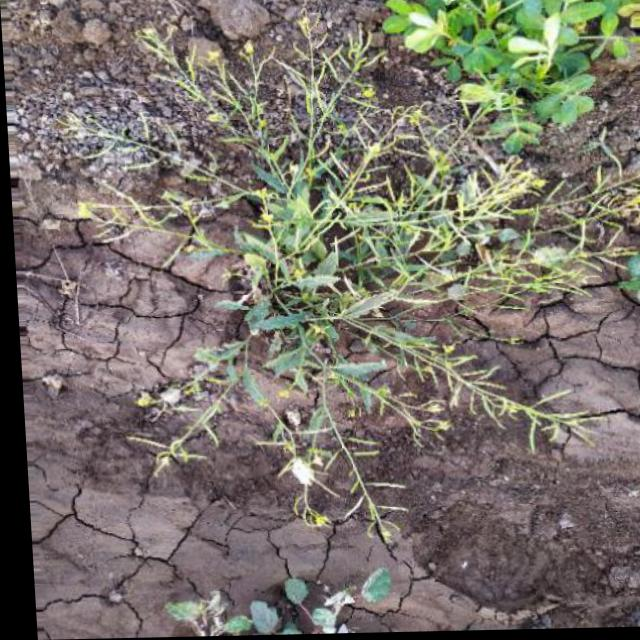weed: (52, 56, 629, 523)
